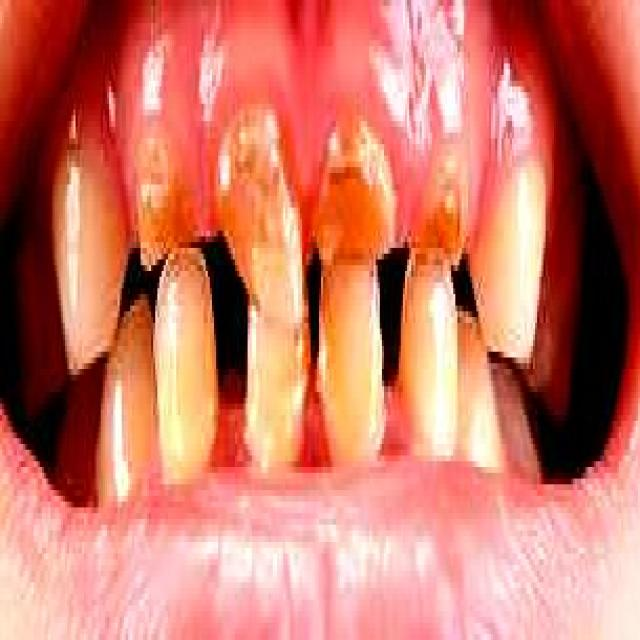caries: (214, 102, 310, 330), (309, 116, 401, 279), (410, 128, 482, 273), (130, 140, 181, 274)
